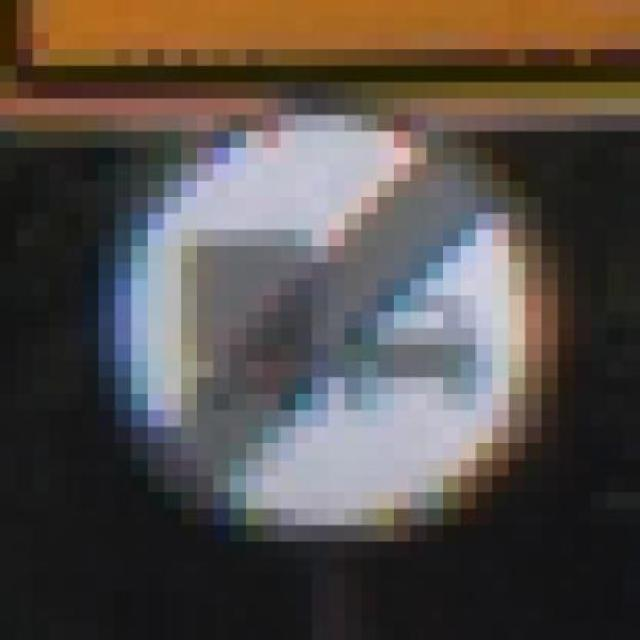Overtaking by trucks is prohibited: (33, 65, 575, 558)
